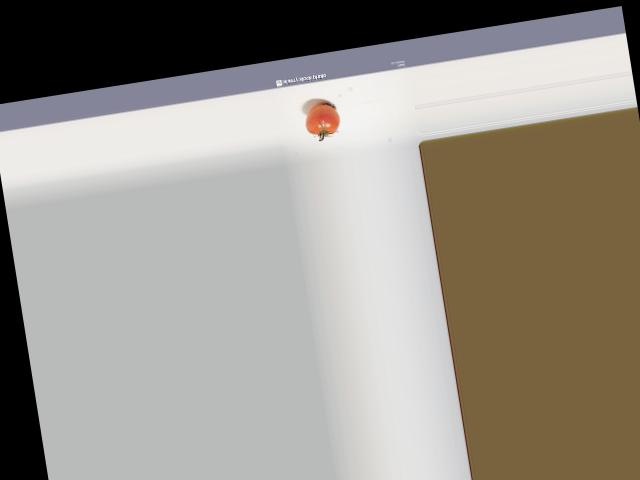tomato: (303, 101, 342, 136)
